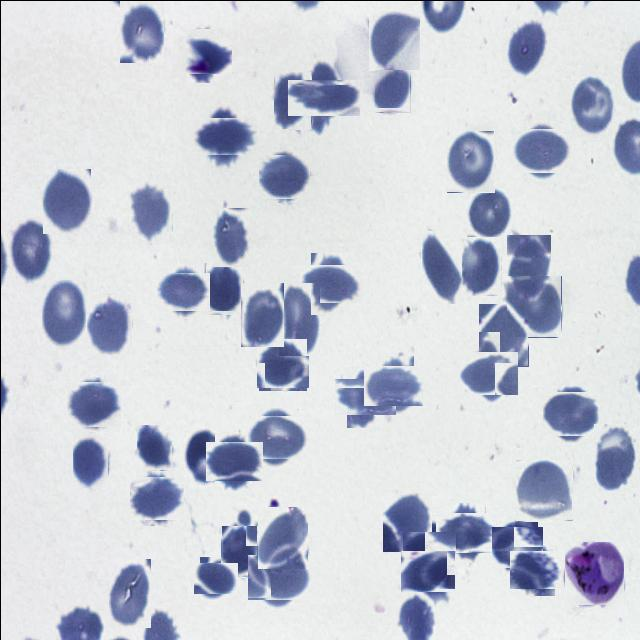difficult: (564, 541, 624, 605)
red blood cell: (515, 459, 572, 520), (506, 275, 561, 337), (40, 278, 86, 348), (42, 166, 90, 232), (478, 303, 528, 366), (368, 10, 420, 70), (420, 230, 462, 304), (257, 506, 307, 568), (250, 550, 306, 604), (278, 282, 319, 355), (506, 234, 550, 302), (446, 130, 494, 192), (296, 70, 351, 124), (380, 492, 430, 551), (108, 558, 150, 627), (593, 423, 636, 490), (8, 217, 52, 281), (86, 294, 132, 355), (240, 282, 283, 346), (570, 75, 614, 137), (119, 0, 163, 62), (516, 124, 568, 176), (250, 410, 302, 462), (198, 110, 250, 162), (130, 180, 172, 242), (463, 347, 514, 398), (304, 258, 355, 308), (68, 378, 118, 428), (546, 388, 596, 438), (440, 507, 490, 557), (257, 339, 307, 389), (368, 360, 418, 410), (460, 236, 501, 296), (506, 18, 547, 77), (340, 372, 389, 421), (132, 473, 181, 522), (182, 427, 222, 485), (260, 152, 308, 200), (210, 436, 258, 484), (404, 546, 452, 594), (466, 187, 510, 238), (272, 71, 310, 129), (493, 523, 539, 570), (212, 207, 248, 266), (203, 262, 243, 315), (160, 268, 206, 314), (181, 32, 227, 78), (512, 546, 557, 592), (407, 526, 451, 570), (220, 525, 257, 577), (72, 436, 108, 488), (136, 424, 172, 470), (374, 66, 410, 112), (196, 559, 234, 597)
